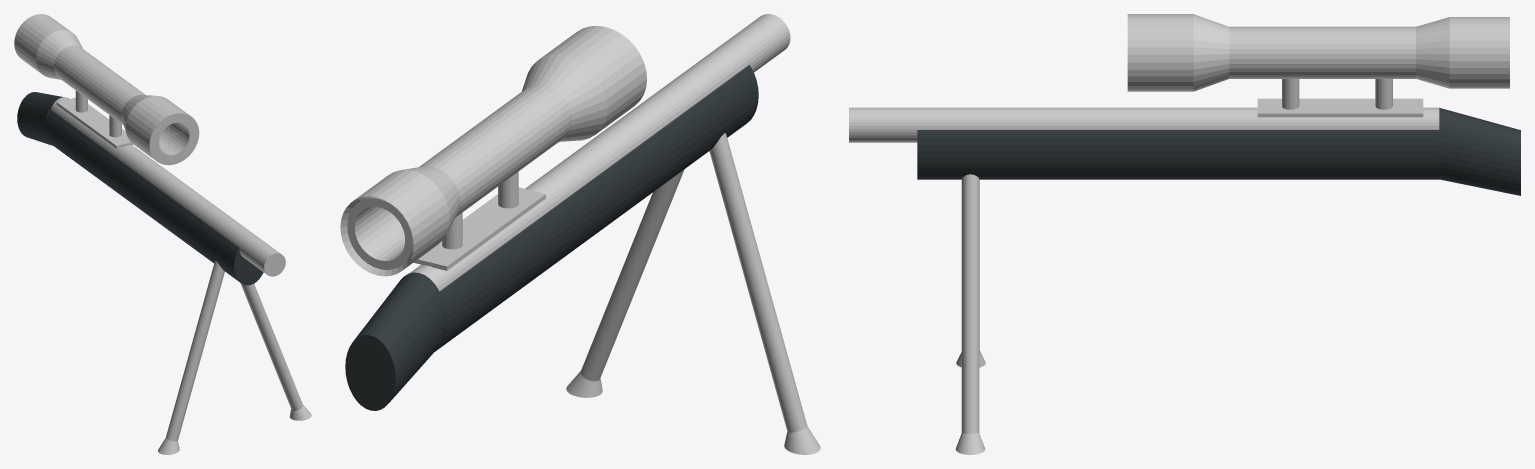
File: m24OnFire.obj
3 views of the same model, side by side, from view 1: azimuth 30°, elevation 25°; view 2: azimuth 150°, elevation 25°; view 3: azimuth 270°, elevation 25° (orthographic). The views are drawn at different scales.
Parts seen in each view (by area): view 1: Cylinder.006, Cylinder.001, Cylinder, Cylinder.003, Cylinder.002, Cylinder.007, Cube; view 2: Cylinder.006, Cylinder.001, Cylinder, Cylinder.007, Cylinder.003, Cylinder.002, Cube, Cylinder.004, Cylinder.005; view 3: Cylinder.001, Cylinder.006, Cylinder, Cylinder.007, Cylinder.002, Cube.
Part boxes in pixels (x1,y1,x2,y2): Cylinder.006: (14, 14, 199, 165); Cylinder.001: (45, 110, 263, 285); Cylinder: (51, 97, 285, 276); Cylinder.003: (158, 260, 224, 454); Cylinder.002: (240, 283, 311, 420); Cylinder.007: (17, 92, 68, 145); Cube: (56, 97, 133, 148); Cylinder.006: (340, 25, 646, 276); Cylinder.001: (435, 65, 758, 351); Cylinder: (410, 14, 790, 291); Cylinder.007: (345, 272, 446, 410); Cylinder.003: (709, 133, 820, 454); Cylinder.002: (566, 169, 684, 397); Cube: (413, 187, 545, 270); Cylinder.004: (498, 171, 518, 208); Cylinder.005: (442, 212, 462, 249); Cylinder.001: (917, 130, 1439, 179); Cylinder.006: (1127, 14, 1509, 91); Cylinder: (849, 107, 1439, 142); Cylinder.007: (1439, 108, 1520, 195); Cylinder.002: (955, 174, 985, 454); Cube: (1257, 98, 1423, 117).
Bounding box in the file's own units: 13.88 × 24.62 × 38.61.
